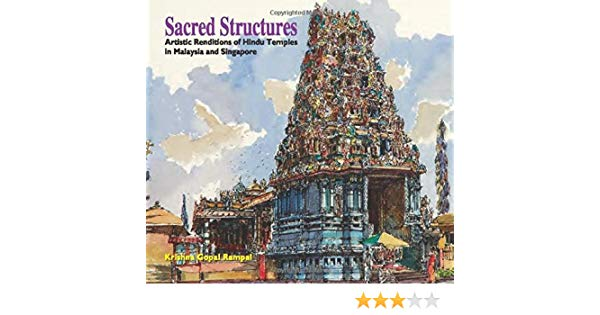Hindu Temple: (272, 9, 416, 255)
